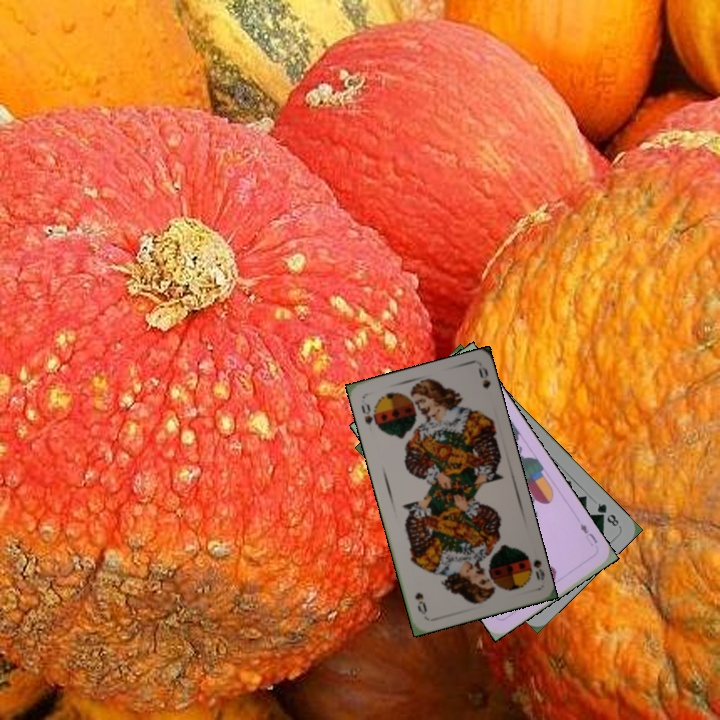EU: (576, 520, 600, 549)
G8: (593, 499, 622, 530)
SO: (520, 548, 547, 583), (357, 399, 381, 432)
